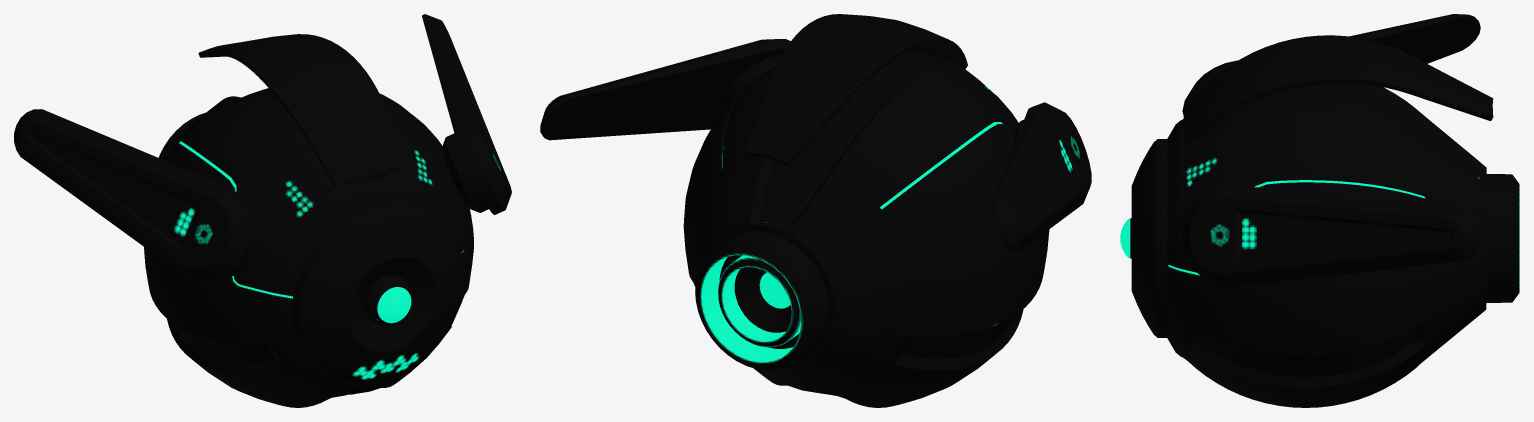
Rendered from Drone.fbx.
3 renders of one model, left to right at view 1: azimuth 30°, elevation 25°; view 2: azimuth 150°, elevation 25°; view 3: azimuth 270°, elevation 25°, orthographic. The views are drawn at different scales.
Parts seen in each view (by area): view 1: polySurface6, pCylinder5, polySurface3, pCylinder3, pSphere3, polySurface7; view 2: polySurface6, polySurface3, pCylinder3, pCylinder5, polySurface7, polySurface5; view 3: polySurface6, pCylinder3, polySurface3, polySurface7, pCylinder5, pSphere3.
Boxes of the visible parts, x1=… form: polySurface6: x1=144, y1=88, x2=473, y2=407; pCylinder5: x1=14, y1=109, x2=254, y2=282; polySurface3: x1=198, y1=34, x2=400, y2=186; pCylinder3: x1=422, y1=14, x2=511, y2=214; pSphere3: x1=364, y1=275, x2=411, y2=325; polySurface7: x1=158, y1=112, x2=205, y2=160; polySurface6: x1=683, y1=52, x2=1049, y2=407; polySurface3: x1=744, y1=14, x2=967, y2=165; pCylinder3: x1=540, y1=39, x2=790, y2=140; pCylinder5: x1=992, y1=102, x2=1091, y2=253; polySurface7: x1=695, y1=231, x2=829, y2=370; polySurface5: x1=718, y1=255, x2=800, y2=347; polySurface6: x1=1131, y1=83, x2=1486, y2=407; pCylinder3: x1=1182, y1=185, x2=1480, y2=287; polySurface3: x1=1183, y1=35, x2=1493, y2=145; polySurface7: x1=1486, y1=174, x2=1519, y2=302; pCylinder5: x1=1182, y1=14, x2=1480, y2=115; pSphere3: x1=1120, y1=218, x2=1131, y2=258.
Size of the model in its own units: 14.76 by 10.63 by 11.52.
